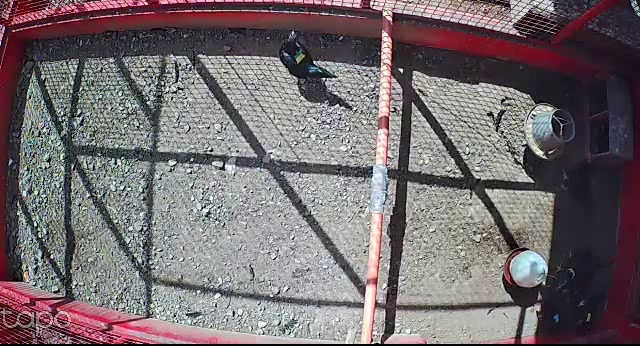Chicken: (277, 28, 342, 83), (536, 296, 579, 339)
Feeder: (524, 100, 577, 162)
Saddle_Color_Blue: (552, 312, 560, 322)
Saddle_Color_Yellow: (586, 313, 593, 322)
Saddle_Color_YellowGreen: (291, 49, 308, 62)
